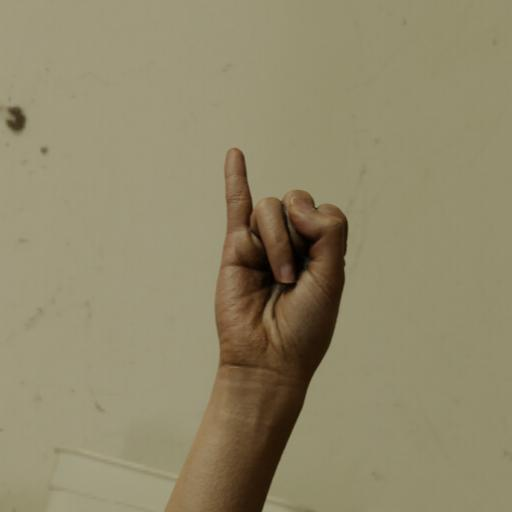I: (197, 134, 362, 394)
